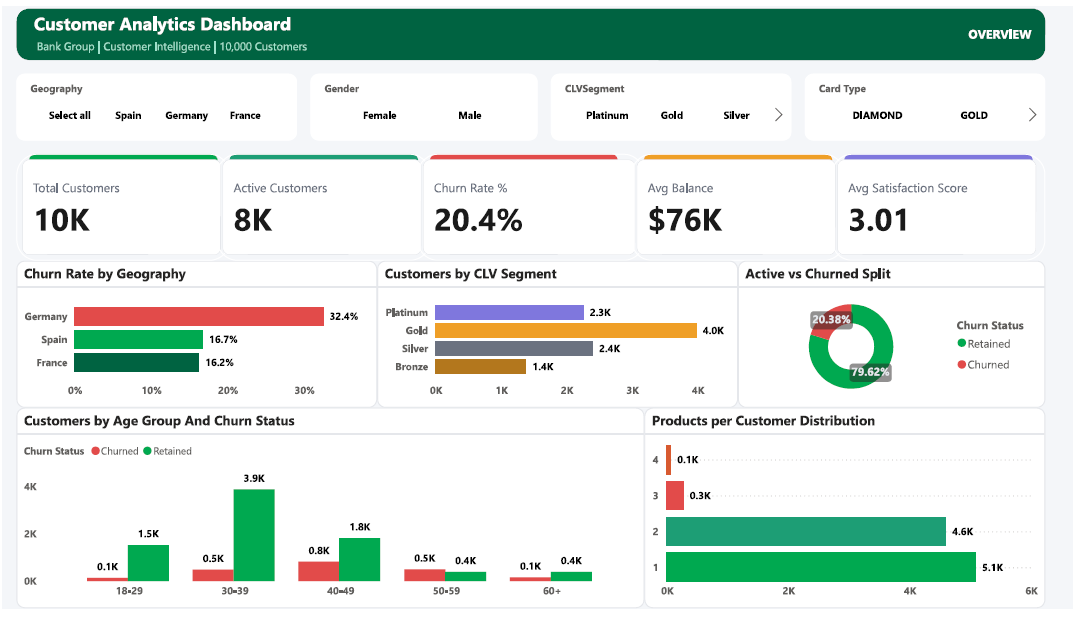

This screenshot's page, from the dashboard's own definition file:
{"tool":"powerbi","page":{"name":"Overview","canvas":[1280,720],"ordinal":0},"visuals":[{"type":"shape","box":[16,1.9,1232,62.1],"z":0,"group":"g1"},{"type":"group","id":"g1","title":"Group 6","box":[16,0,1232,64],"z":1000},{"type":"textbox","box":[32.2,0,551.2,46.5],"z":1000,"group":"g1"},{"type":"shape","box":[31.1,176,225.9,16],"z":1000,"group":"g2"},{"type":"shape","box":[271.1,176,225.9,16],"z":1000,"group":"g3"},{"type":"shape","box":[511,176,225,16],"z":1000,"group":"g4"},{"type":"shape","box":[767.1,176,225.9,16],"z":1000,"group":"g5"},{"type":"shape","box":[1007.1,176,225.9,16],"z":1000,"group":"g6"},{"type":"slicer","fields":{"Values":["CustomerBase.Gender"]},"box":[368,80,272,80],"z":2000},{"type":"slicer","fields":{"Values":["CustomerBase.Card Type"]},"box":[960,80,288,80],"z":3000},{"type":"cardVisual","fields":{"Data":["_Measures.Total Customers"]},"box":[16,176,256,128],"z":3000,"group":"g2"},{"type":"cardVisual","fields":{"Data":["_Measures.Active Customers"]},"box":[256,176,256,128],"z":3000,"group":"g3"},{"type":"cardVisual","fields":{"Data":["_Measures.Churn Rate %"]},"box":[496,176,272,128],"z":3000,"group":"g4"},{"type":"cardVisual","fields":{"Data":["_Measures.Avg Balance"]},"box":[752,176,256,128],"z":3000,"group":"g5"},{"type":"cardVisual","fields":{"Data":["_Measures.Avg Satisfaction Score"]},"box":[992,176,256,128],"z":3000,"group":"g6"},{"type":"textbox","box":[32.2,33,421.5,31],"z":4000,"group":"g1"},{"type":"slicer","fields":{"Values":["CustomerBase.CLVSegment"]},"box":[656,80,288,80],"z":4000},{"type":"textbox","box":[1150.7,17.5,97.3,31],"z":5000,"group":"g1"},{"type":"clusteredBarChart","title":"Churn Rate by Geography","fields":{"Category":["CustomerBase.Geography"],"Y":["_Measures.Churn Rate %"]},"box":[16,304,432,176],"z":5000},{"type":"group","id":"g2","title":"Group 1","box":[16,176,256,128],"z":6000},{"type":"group","id":"g3","title":"Group 2","box":[256,176,256,128],"z":7000},{"type":"group","id":"g4","title":"Group 7","box":[496,176,272,128],"z":8000},{"type":"group","id":"g5","title":"Group 7","box":[752,176,256,128],"z":9000},{"type":"group","id":"g6","title":"Group 7","box":[992,176,256,128],"z":10000},{"type":"clusteredBarChart","title":"Customers by CLV Segment","fields":{"Category":["CustomerBase.CLVSegment"],"Y":["_Measures.Total Customers"]},"box":[448,304,432,176],"z":11000},{"type":"donutChart","title":"Active vs Churned Split","fields":{"Y":["_Measures.Total Customers"],"Category":["CustomerBase.Churn Status"]},"box":[880,304,368,176],"z":12000},{"type":"clusteredColumnChart","title":"Customers by Age Group And Churn Status","fields":{"Category":["CustomerBase.AgeGroup"],"Y":["_Measures.Total Customers"],"Series":["CustomerBase.Churn Status"]},"box":[16,480,752,240],"z":13000},{"type":"barChart","title":"Products per Customer Distribution","fields":{"Category":["CustomerBase.NumOfProducts"],"Y":["_Measures.Total Customers"]},"box":[768,480,480,240],"z":14000},{"type":"slicer","fields":{"Values":["CustomerBase.Geography"]},"box":[16,80,336,80],"z":14001}]}

Visuals, with their boxes on the page's 1280x720 design canvas (x1, y1, x2, y2). These are canvas units, not pixel positions in the 1077x633 screenshot, which may show the page scaled, cropped or inside an application window:
shape: pyautogui.locateOnScreen(16, 2, 1248, 64)
"Group 6" group: pyautogui.locateOnScreen(16, 0, 1248, 64)
textbox: pyautogui.locateOnScreen(32, 0, 583, 46)
shape: pyautogui.locateOnScreen(31, 176, 257, 192)
shape: pyautogui.locateOnScreen(271, 176, 497, 192)
shape: pyautogui.locateOnScreen(511, 176, 736, 192)
shape: pyautogui.locateOnScreen(767, 176, 993, 192)
shape: pyautogui.locateOnScreen(1007, 176, 1233, 192)
slicer - CustomerBase.Gender: pyautogui.locateOnScreen(368, 80, 640, 160)
slicer - CustomerBase.Card Type: pyautogui.locateOnScreen(960, 80, 1248, 160)
cardVisual - _Measures.Total Customers: pyautogui.locateOnScreen(16, 176, 272, 304)
cardVisual - _Measures.Active Customers: pyautogui.locateOnScreen(256, 176, 512, 304)
cardVisual - _Measures.Churn Rate %: pyautogui.locateOnScreen(496, 176, 768, 304)
cardVisual - _Measures.Avg Balance: pyautogui.locateOnScreen(752, 176, 1008, 304)
cardVisual - _Measures.Avg Satisfaction Score: pyautogui.locateOnScreen(992, 176, 1248, 304)
textbox: pyautogui.locateOnScreen(32, 33, 454, 64)
slicer - CustomerBase.CLVSegment: pyautogui.locateOnScreen(656, 80, 944, 160)
textbox: pyautogui.locateOnScreen(1151, 18, 1248, 48)
"Churn Rate by Geography" clusteredBarChart: pyautogui.locateOnScreen(16, 304, 448, 480)
"Group 1" group: pyautogui.locateOnScreen(16, 176, 272, 304)
"Group 2" group: pyautogui.locateOnScreen(256, 176, 512, 304)
"Group 7" group: pyautogui.locateOnScreen(496, 176, 768, 304)
"Group 7" group: pyautogui.locateOnScreen(752, 176, 1008, 304)
"Group 7" group: pyautogui.locateOnScreen(992, 176, 1248, 304)
"Customers by CLV Segment" clusteredBarChart: pyautogui.locateOnScreen(448, 304, 880, 480)
"Active vs Churned Split" donutChart: pyautogui.locateOnScreen(880, 304, 1248, 480)
"Customers by Age Group And Churn Status" clusteredColumnChart: pyautogui.locateOnScreen(16, 480, 768, 720)
"Products per Customer Distribution" barChart: pyautogui.locateOnScreen(768, 480, 1248, 720)
slicer - CustomerBase.Geography: pyautogui.locateOnScreen(16, 80, 352, 160)
